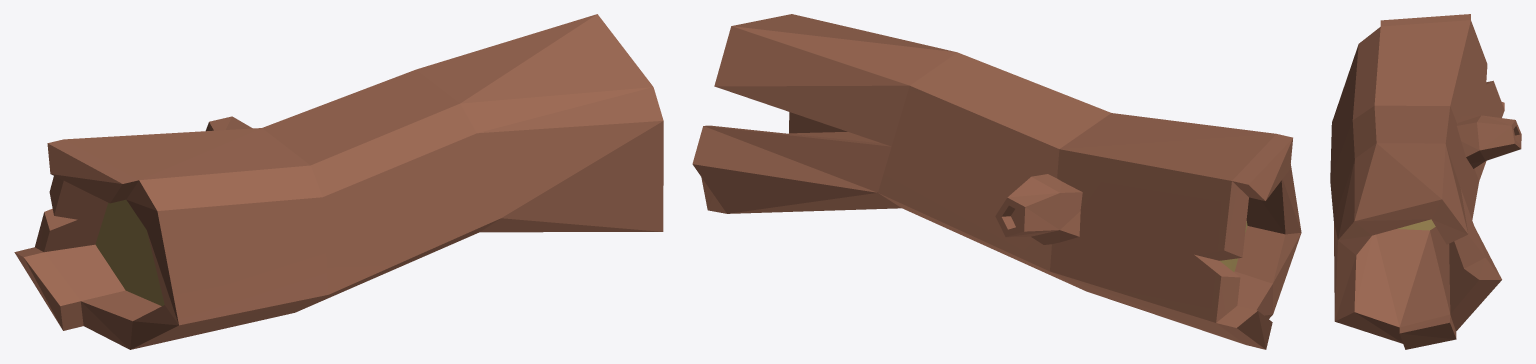
File: Trunk.fbx
3 views of the same model, side by side, from view 1: azimuth 30°, elevation 25°; view 2: azimuth 150°, elevation 25°; view 3: azimuth 270°, elevation 25° (orthographic). The views are drawn at different scales.
Parts seen in each view (by area): view 1: Trunk.010; view 2: Trunk.010; view 3: Trunk.010.
Part boxes in pixels (x1=…): Trunk.010: x1=14, y1=14, x2=663, y2=349; Trunk.010: x1=692, y1=14, x2=1301, y2=349; Trunk.010: x1=1330, y1=14, x2=1521, y2=349.
Size of the model in its own units: 196 by 75.21 by 64.15.
